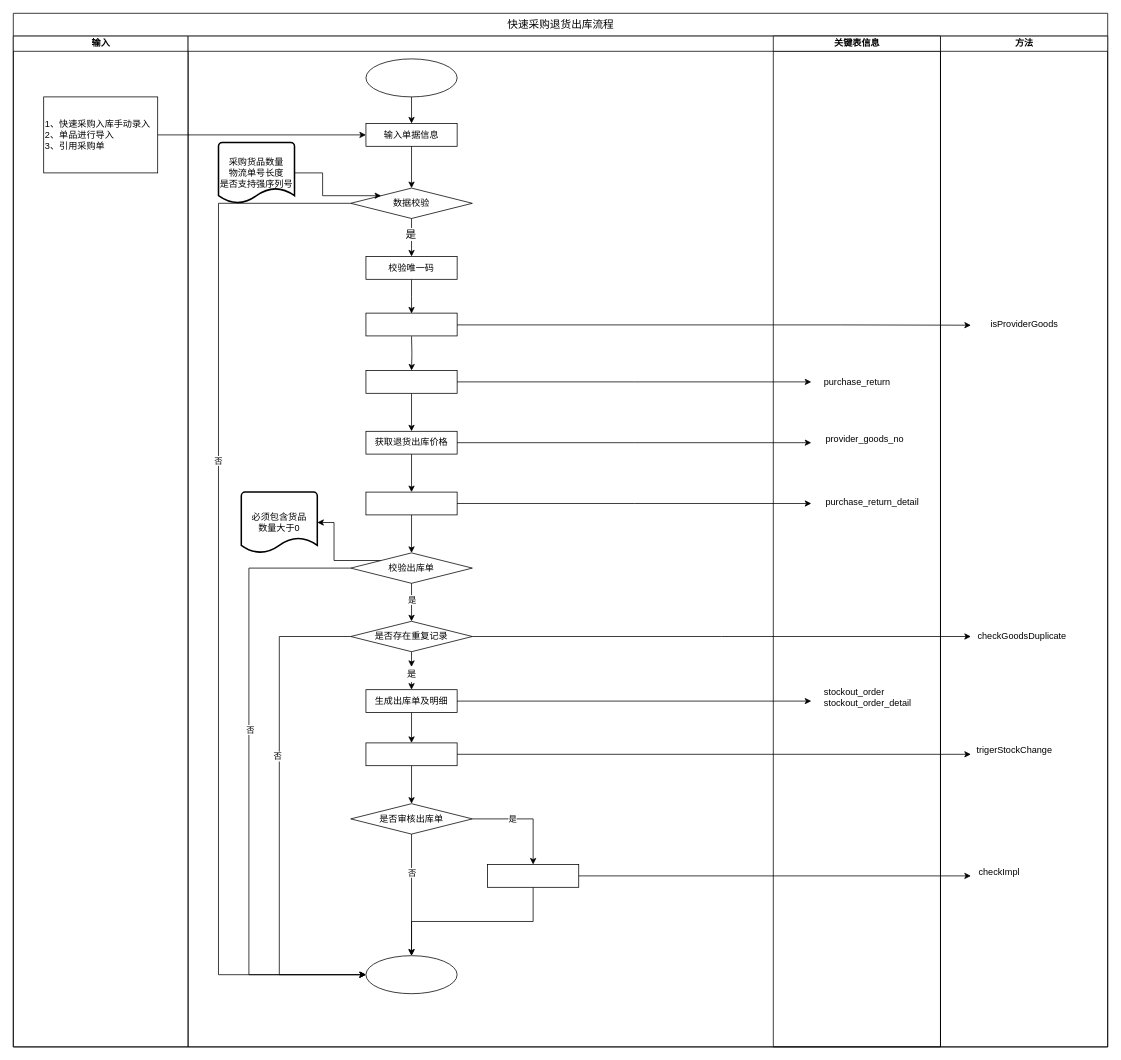
This 1121x1060 diagram has some shape labels left out. Here are the shapes that lost their labels. From the top down, the centre of each, then its label:
[411,77]: 开始
[411,324]: 校验是否是供应商提供的货品
[411,381]: 插入采购退货单
[411,503]: 插入采购退货单明细
[411,754]: 变更状态库存
[533,875]: 采购单自动结算
[411,974]: 结束
